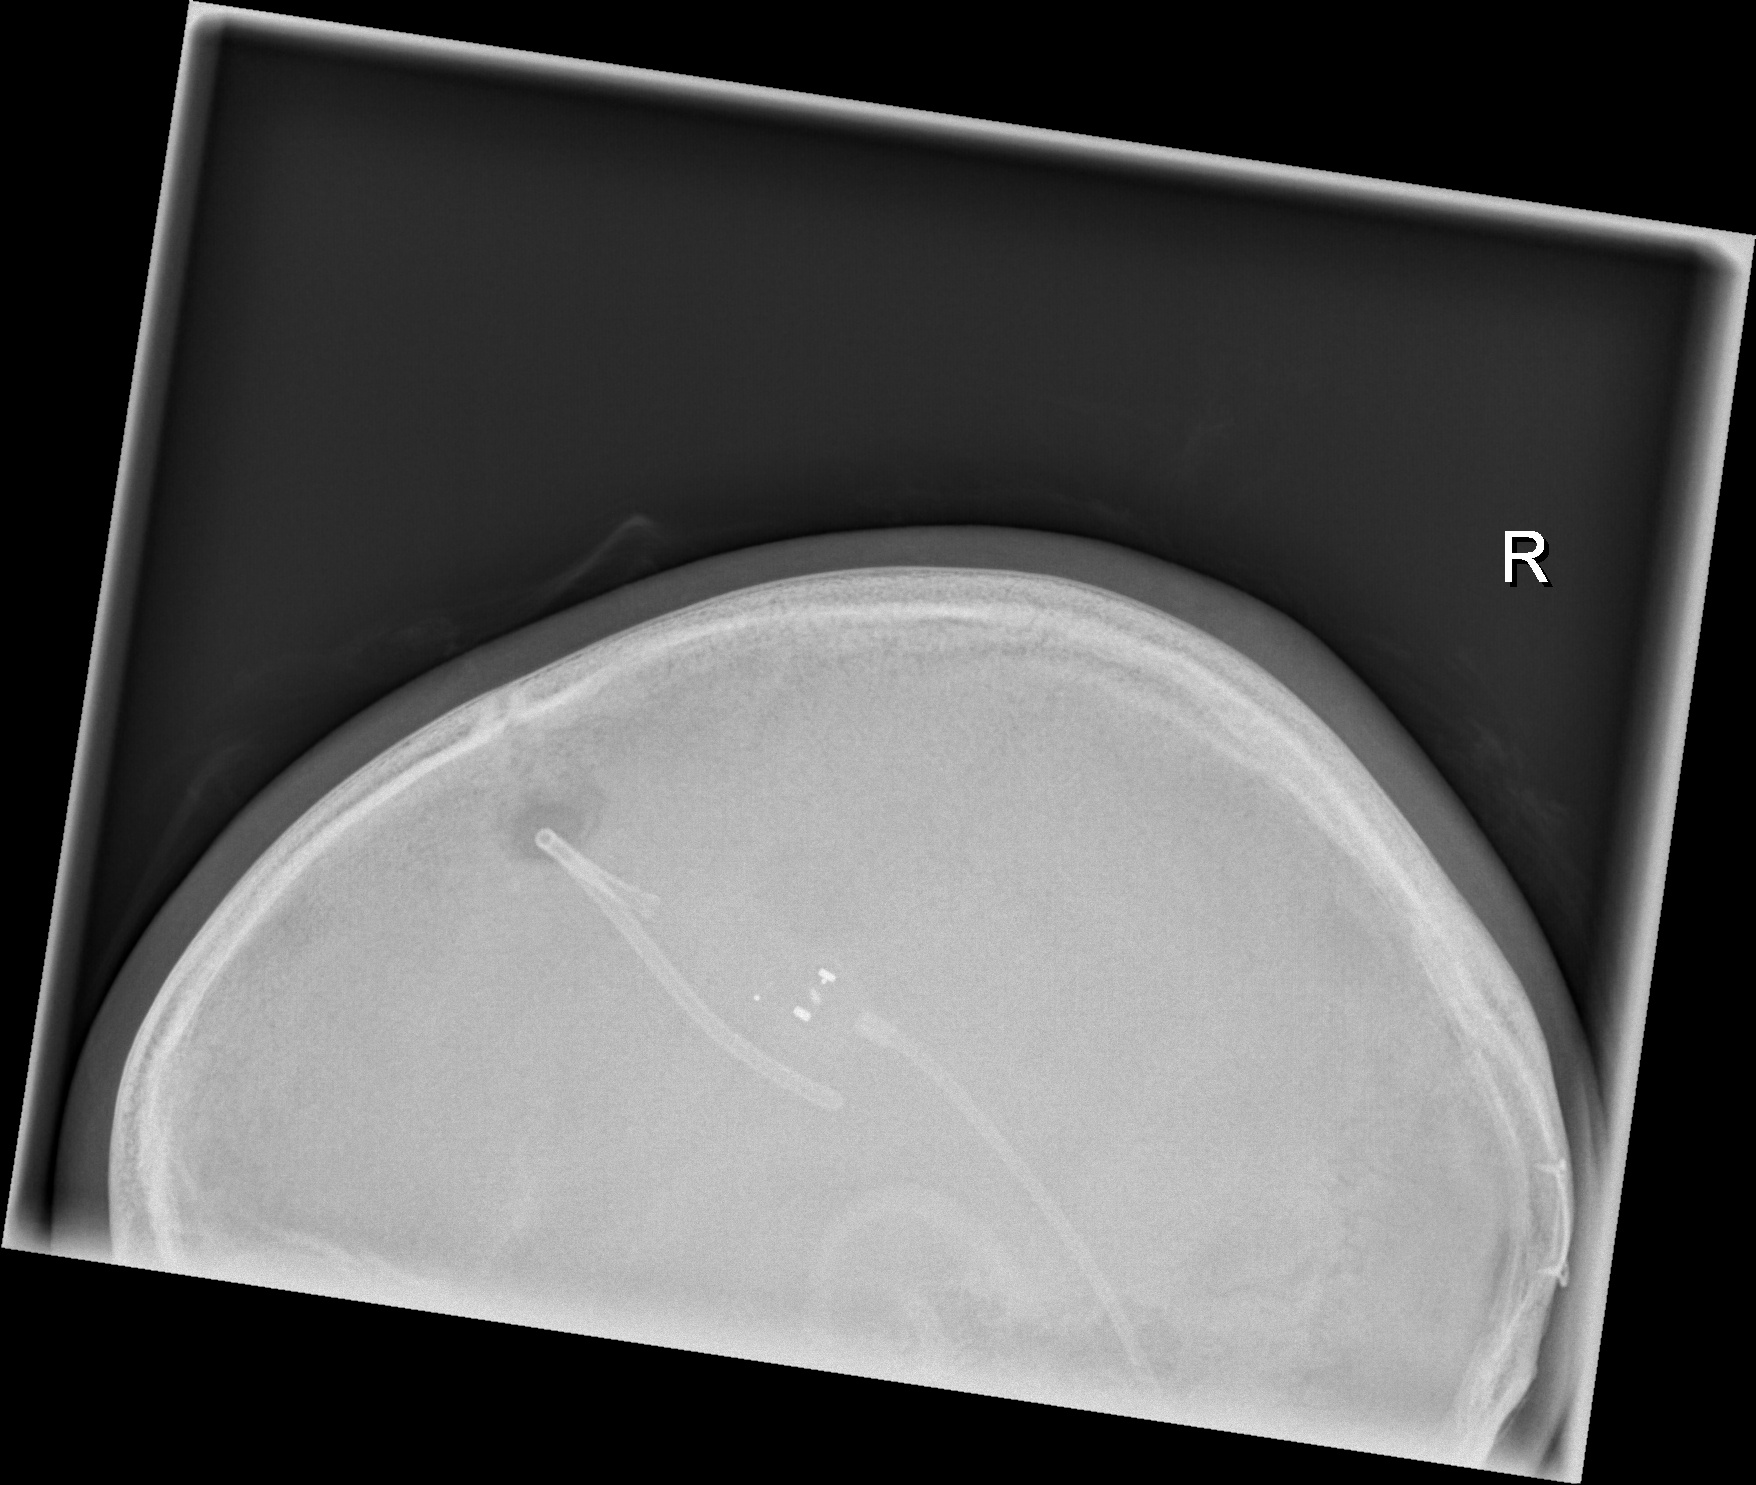Codman Certas: (740, 935, 877, 1053)
